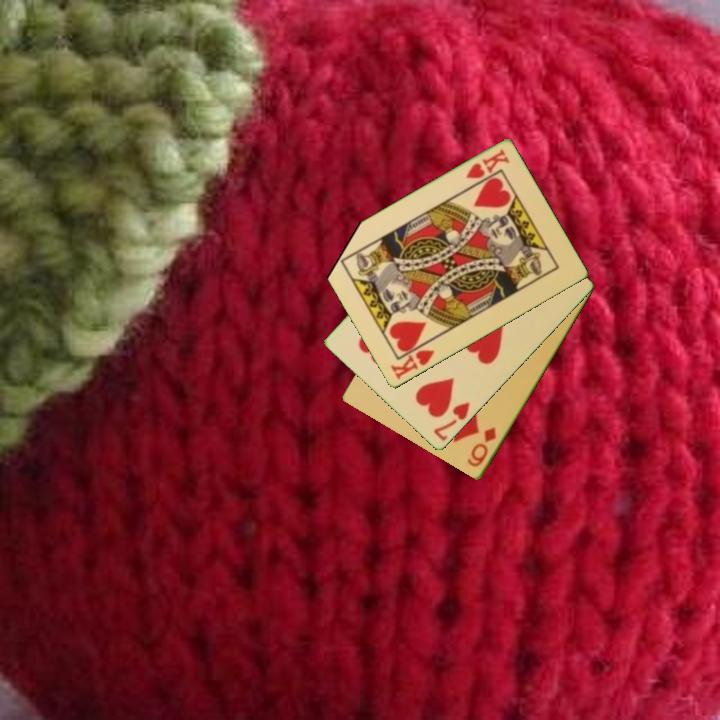6d: (463, 423, 499, 470)
7h: (430, 399, 473, 444)
Kh: (387, 338, 437, 383), (462, 146, 513, 182)
